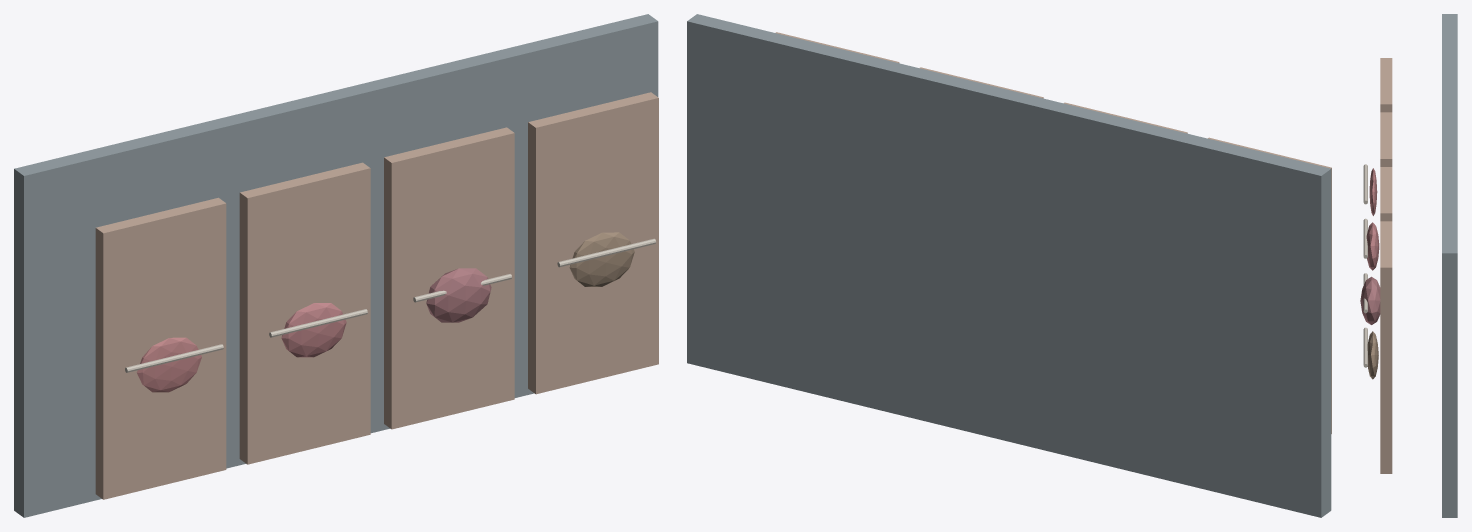
The model's file is wound-samples-low.glb.
3 views of the same model, side by side, from view 1: azimuth 30°, elevation 25°; view 2: azimuth 150°, elevation 25°; view 3: azimuth 270°, elevation 25° (orthographic). The views are drawn at different scales.
Parts seen in each view (by area): view 1: sample_board, skin_sample_1, skin_sample_2, skin_sample_4, skin_sample_3, visual_change_3, visual_change_2, visual_change_4, visual_change_1; view 2: sample_board; view 3: sample_board, skin_sample_4, visual_change_3, skin_sample_2, skin_sample_1, skin_sample_3, visual_change_2, visual_change_4, visual_change_1, edge_marker_1, edge_marker_4, edge_marker_2.
Boxes of the visible parts, box(x1,y1,x2,y2) form: sample_board: box(14, 14, 658, 517); skin_sample_1: box(95, 197, 226, 499); skin_sample_2: box(239, 162, 370, 464); skin_sample_4: box(528, 92, 658, 394); skin_sample_3: box(384, 127, 514, 429); visual_change_3: box(426, 268, 491, 322); visual_change_2: box(281, 303, 346, 357); visual_change_4: box(569, 232, 634, 286); visual_change_1: box(137, 337, 201, 392); sample_board: box(687, 14, 1331, 517); sample_board: box(1442, 14, 1457, 517); skin_sample_4: box(1380, 221, 1392, 473); visual_change_3: box(1360, 276, 1380, 324); skin_sample_2: box(1380, 112, 1392, 166); skin_sample_1: box(1380, 58, 1392, 112); skin_sample_3: box(1380, 167, 1392, 221); visual_change_2: box(1366, 222, 1379, 270); visual_change_4: box(1367, 331, 1378, 379); visual_change_1: box(1369, 168, 1377, 215); edge_marker_1: box(1363, 164, 1367, 204); edge_marker_4: box(1363, 327, 1367, 367); edge_marker_2: box(1363, 218, 1367, 258).
Size of the model in its own units: 6.6 by 3.4 by 1.13.
